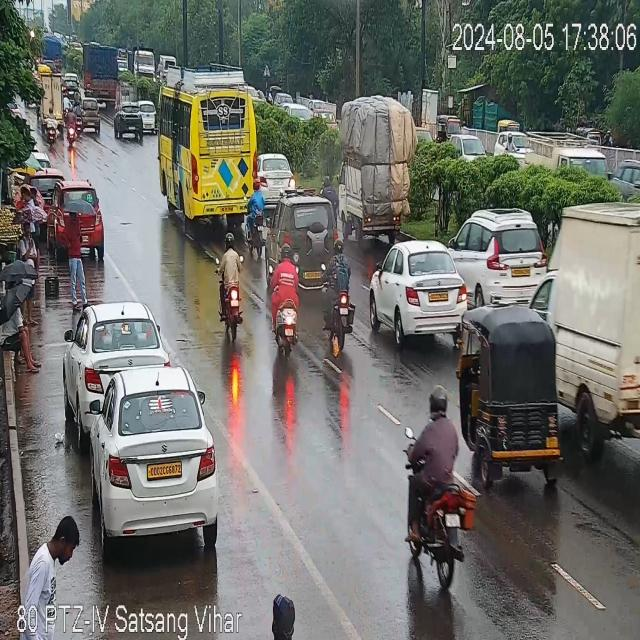2-wheelers: (407, 384, 471, 588), (323, 241, 355, 351), (209, 236, 243, 336), (272, 247, 303, 347), (244, 186, 267, 252), (65, 106, 75, 148), (47, 108, 57, 146), (74, 101, 82, 137)
auto: (448, 309, 567, 493)
bus: (552, 192, 640, 450), (156, 60, 258, 220)
car: (76, 371, 220, 548), (67, 303, 168, 402), (370, 242, 476, 336), (462, 204, 544, 290), (268, 196, 344, 253), (545, 139, 613, 191), (56, 183, 105, 250), (442, 121, 490, 171), (488, 122, 532, 164), (262, 152, 298, 196), (276, 100, 316, 132), (617, 145, 640, 197), (114, 104, 141, 138), (83, 96, 101, 134), (140, 100, 156, 130)
pedestrian: (26, 516, 66, 615), (0, 302, 41, 369), (265, 592, 303, 640), (66, 207, 86, 297), (19, 222, 35, 314), (20, 188, 40, 215)
truck: (339, 100, 424, 236), (80, 46, 124, 100)
